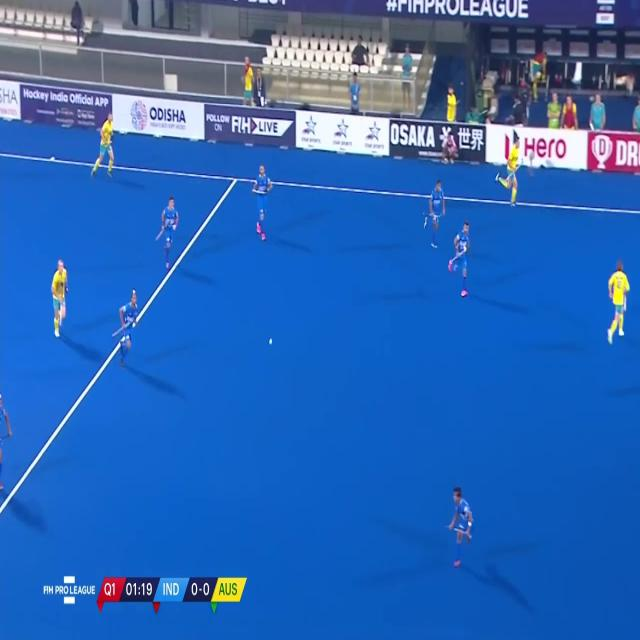ball: (264, 329, 277, 352)
